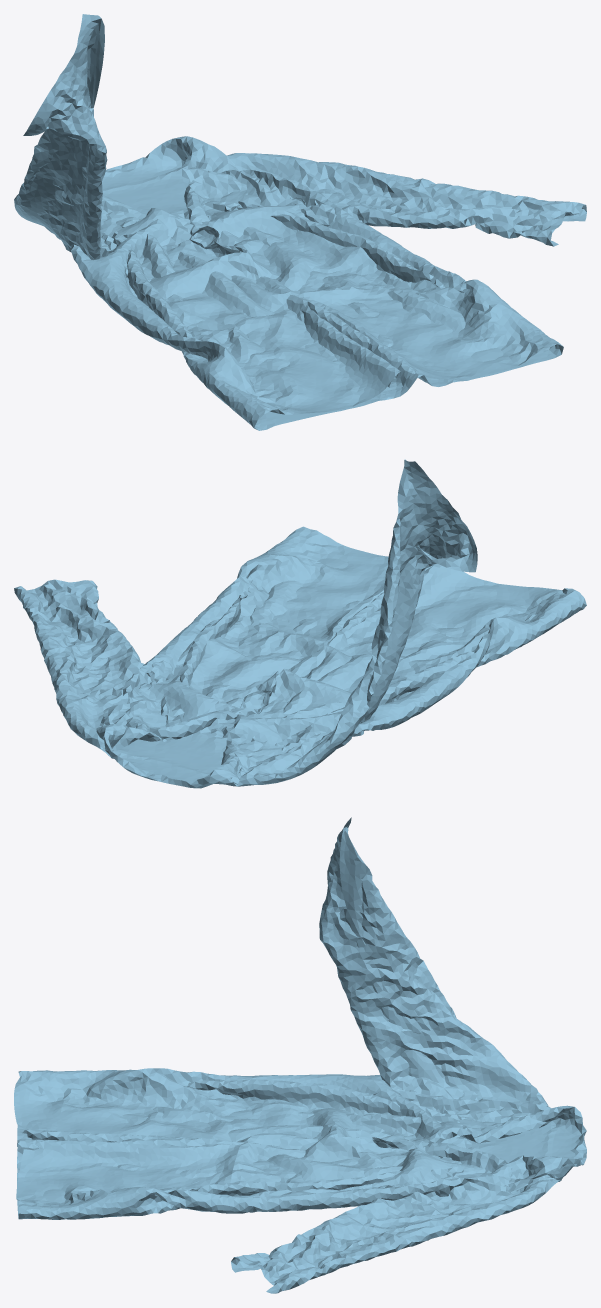
Rendered from frame_09.glb.
The picture shows the model from 3 angles, top to bottom: view 1: azimuth 30°, elevation 25°; view 2: azimuth 150°, elevation 25°; view 3: azimuth 270°, elevation 25°; orthographic projection. The views are drawn at different scales.
Parts seen in each view (by area): view 1: frame_09.obj; view 2: frame_09.obj; view 3: frame_09.obj.
Part boxes in pixels (box(x1,y1,x2,y2)): frame_09.obj: box(14, 14, 586, 430); frame_09.obj: box(14, 459, 586, 788); frame_09.obj: box(14, 817, 586, 1293).
Size of the model in its own units: 1.67 by 0.8687 by 1.68.
